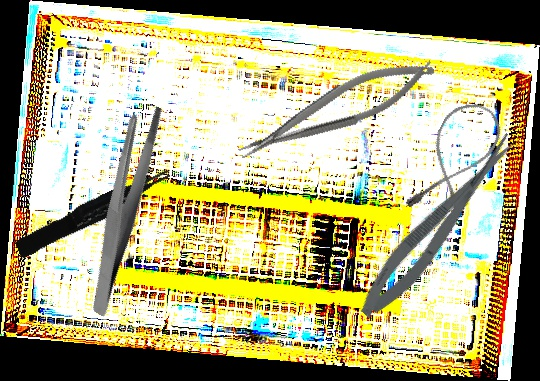Cannula: (401, 93, 510, 229)
Dressing Forceps: (39, 97, 207, 318)
Micro Scissor: (348, 126, 530, 327)
Needle Holder: (229, 48, 442, 169)
Tissue Forceps: (11, 166, 177, 259)
